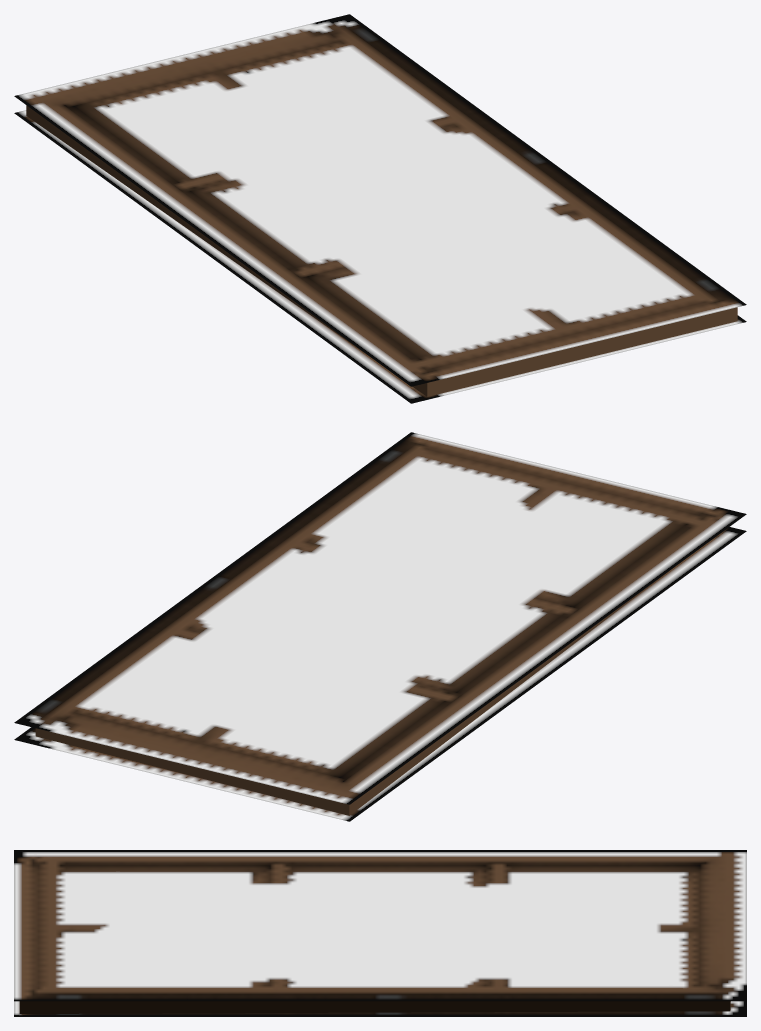
The model's file is pz_native_fixtures_windows_wood_99_frame.obj.
3 views of the same model, one above another, from view 1: azimuth 30°, elevation 25°; view 2: azimuth 150°, elevation 25°; view 3: azimuth 270°, elevation 25° (orthographic). The views are drawn at different scales.
Visible parts, largest first — view 1: pz_native_fixtures_windows_wood_99_frame; view 2: pz_native_fixtures_windows_wood_99_frame; view 3: pz_native_fixtures_windows_wood_99_frame.
Part boxes in pixels (<box>): pz_native_fixtures_windows_wood_99_frame: <box>14,14,746,403</box>; pz_native_fixtures_windows_wood_99_frame: <box>14,432,746,821</box>; pz_native_fixtures_windows_wood_99_frame: <box>14,850,746,1016</box>.
Size of the model in its own units: 0.8281 by 0.04 by 1.7.
1 material, 1 textured.
